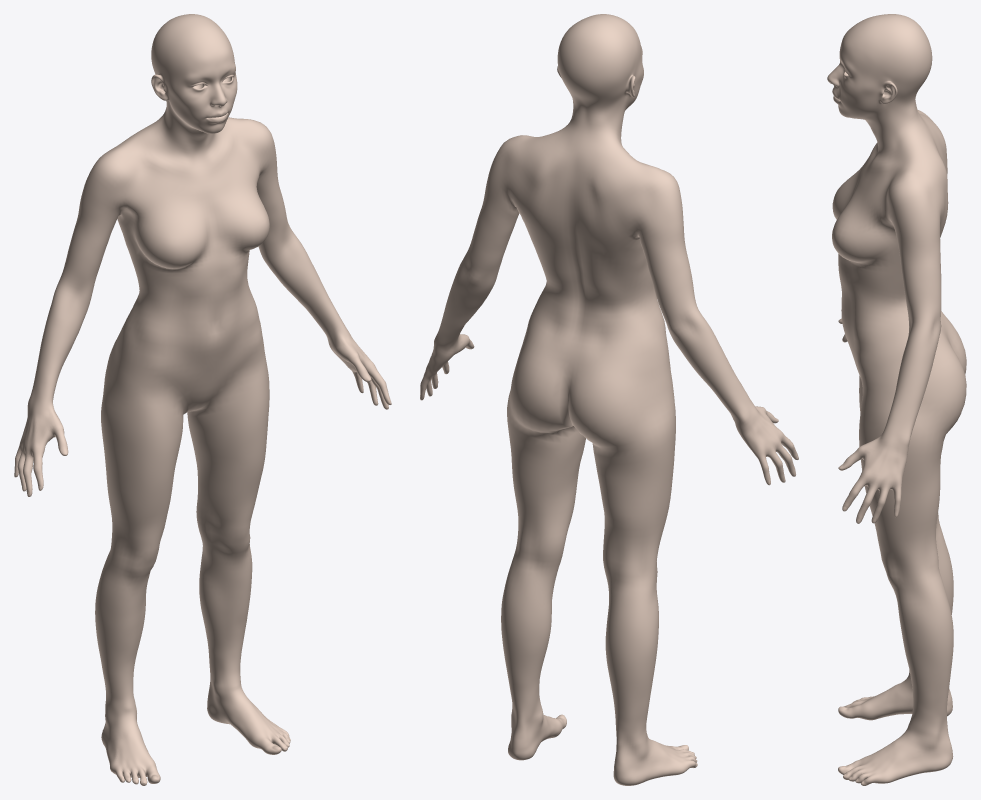
File: female.glb
The picture shows the model from 3 angles, left to right: view 1: azimuth 30°, elevation 25°; view 2: azimuth 150°, elevation 25°; view 3: azimuth 270°, elevation 25°; orthographic projection.
Parts seen in each view (by area): view 1: GEO-body_female_realistic.001; view 2: GEO-body_female_realistic.001; view 3: GEO-body_female_realistic.001.
Boxes of the visible parts, x1,y1,x2,y2 form: GEO-body_female_realistic.001: [14, 14, 391, 785]; GEO-body_female_realistic.001: [420, 14, 798, 785]; GEO-body_female_realistic.001: [827, 14, 966, 785].
Size of the model in its own units: 0.8631 by 1.68 by 0.291.
